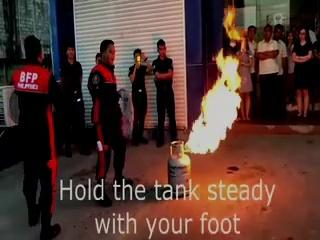Fire: (178, 54, 241, 156)
